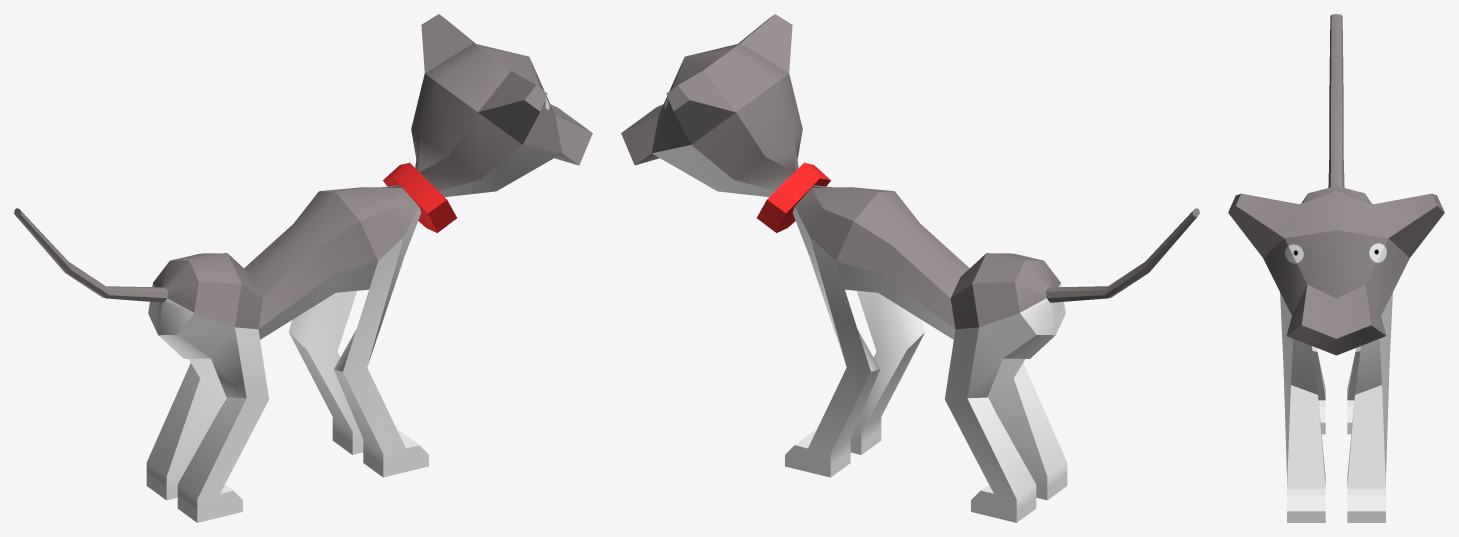
The model's file is dogExport.FBX.
3 views of the same model, side by side, from view 1: azimuth 30°, elevation 25°; view 2: azimuth 150°, elevation 25°; view 3: azimuth 270°, elevation 25° (orthographic). The views are drawn at different scales.
Visible parts, largest first — view 1: Sphere002; view 2: Sphere002; view 3: Sphere002.
Boxes of the visible parts, bbox=[...] form: Sphere002: bbox=[14, 14, 592, 522]; Sphere002: bbox=[621, 14, 1199, 522]; Sphere002: bbox=[1228, 14, 1444, 522].
Size of the model in its own units: 546 by 348 by 184.
Materials: 1 (1 with a texture image).
